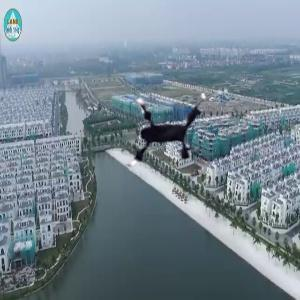drone: (100, 63, 224, 187)
